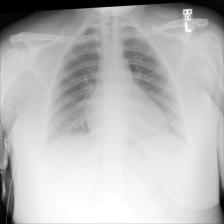normal: (44, 23, 190, 142)
